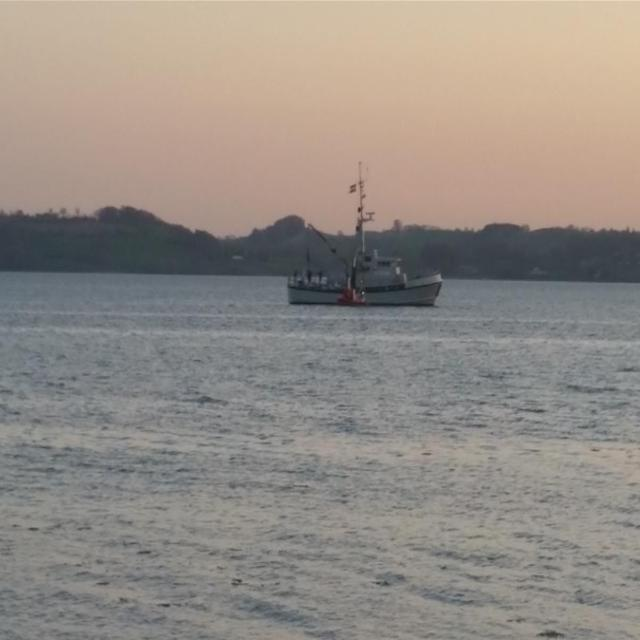fishing boat: (274, 194, 446, 320)
